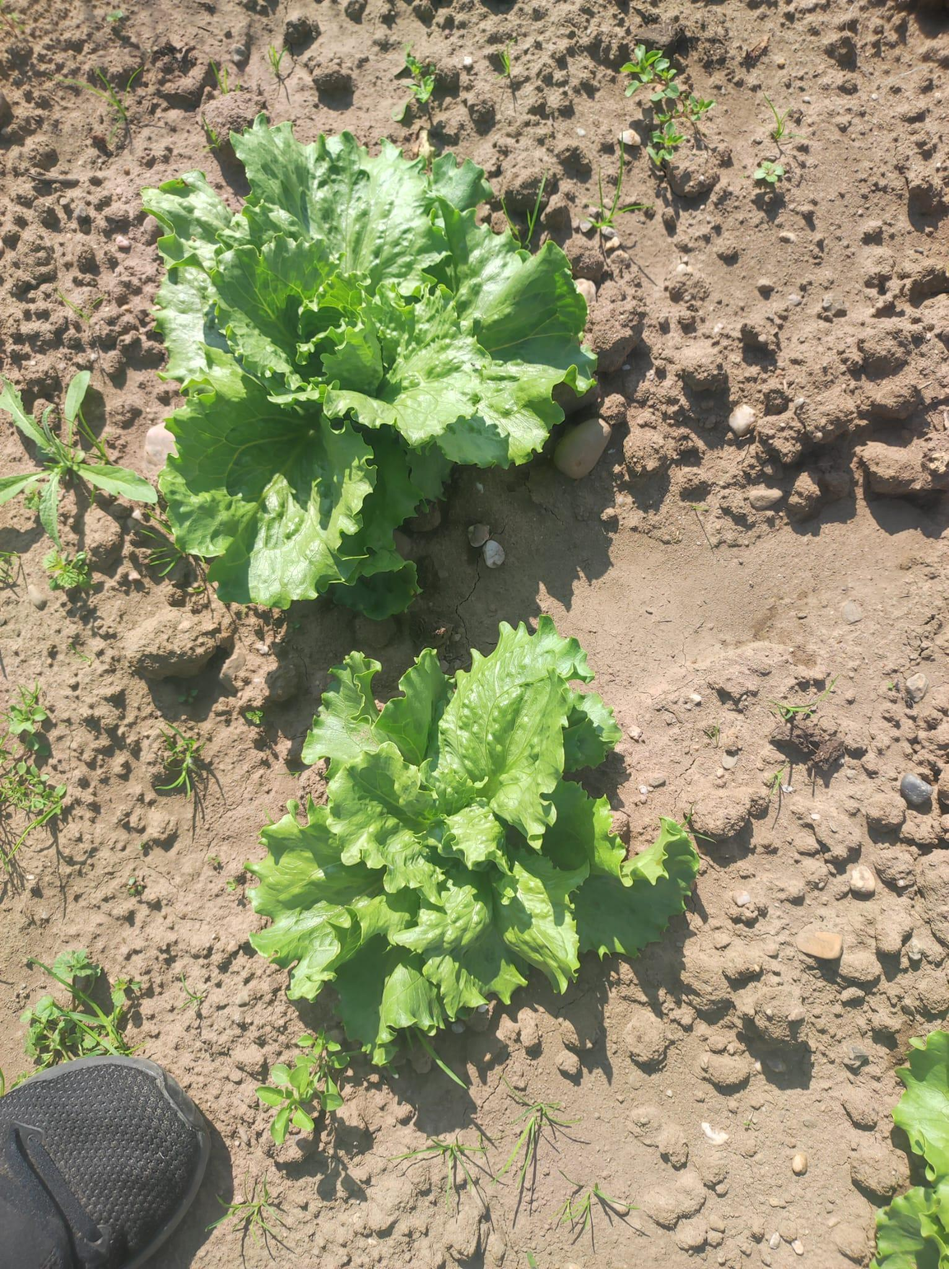healthy: (141, 116, 595, 615), (248, 618, 697, 1055)
